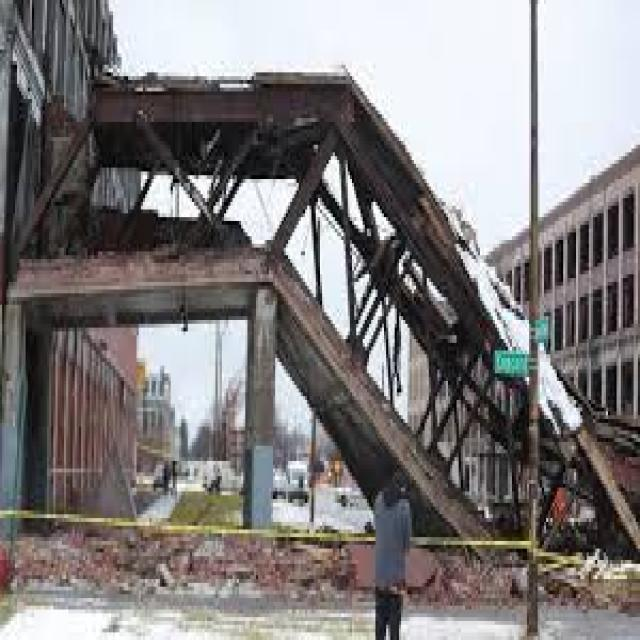bridge collapse: (17, 20, 640, 640)
